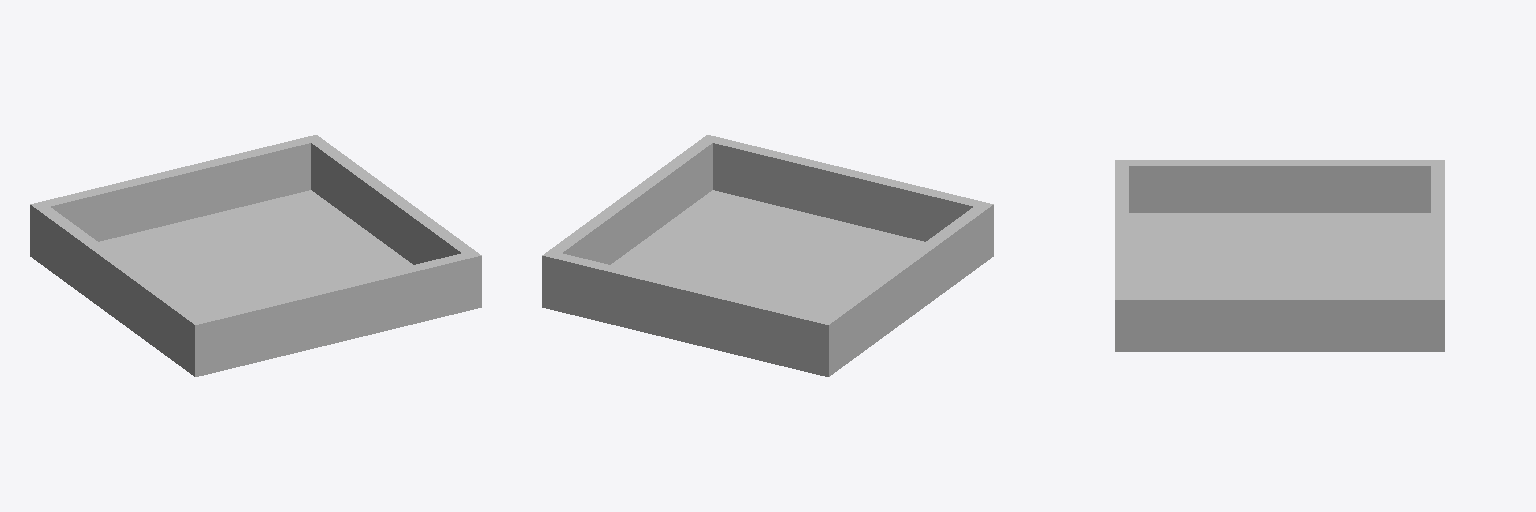
File: TrainingArea.obj
3 renders of one model, left to right at view 1: azimuth 30°, elevation 25°; view 2: azimuth 150°, elevation 25°; view 3: azimuth 270°, elevation 25°, orthographic.
Parts seen in each view (by area): view 1: Cube_Cube.001; view 2: Cube_Cube.001; view 3: Cube_Cube.001.
Part boxes in pixels (x1,y1,x2,y2): Cube_Cube.001: (30, 135, 481, 376); Cube_Cube.001: (542, 135, 993, 376); Cube_Cube.001: (1115, 160, 1444, 351).
Size of the model in its own units: 120 by 20.81 by 120.